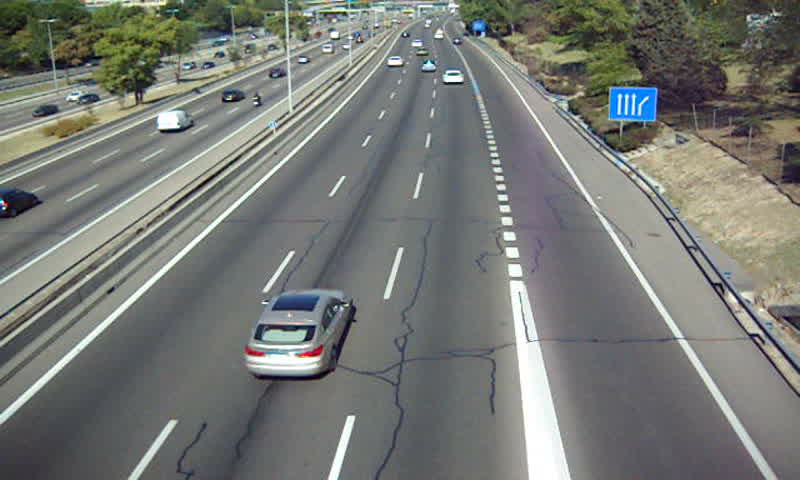car: (246, 289, 355, 375), (442, 68, 465, 85), (386, 56, 405, 68), (421, 58, 437, 72)
